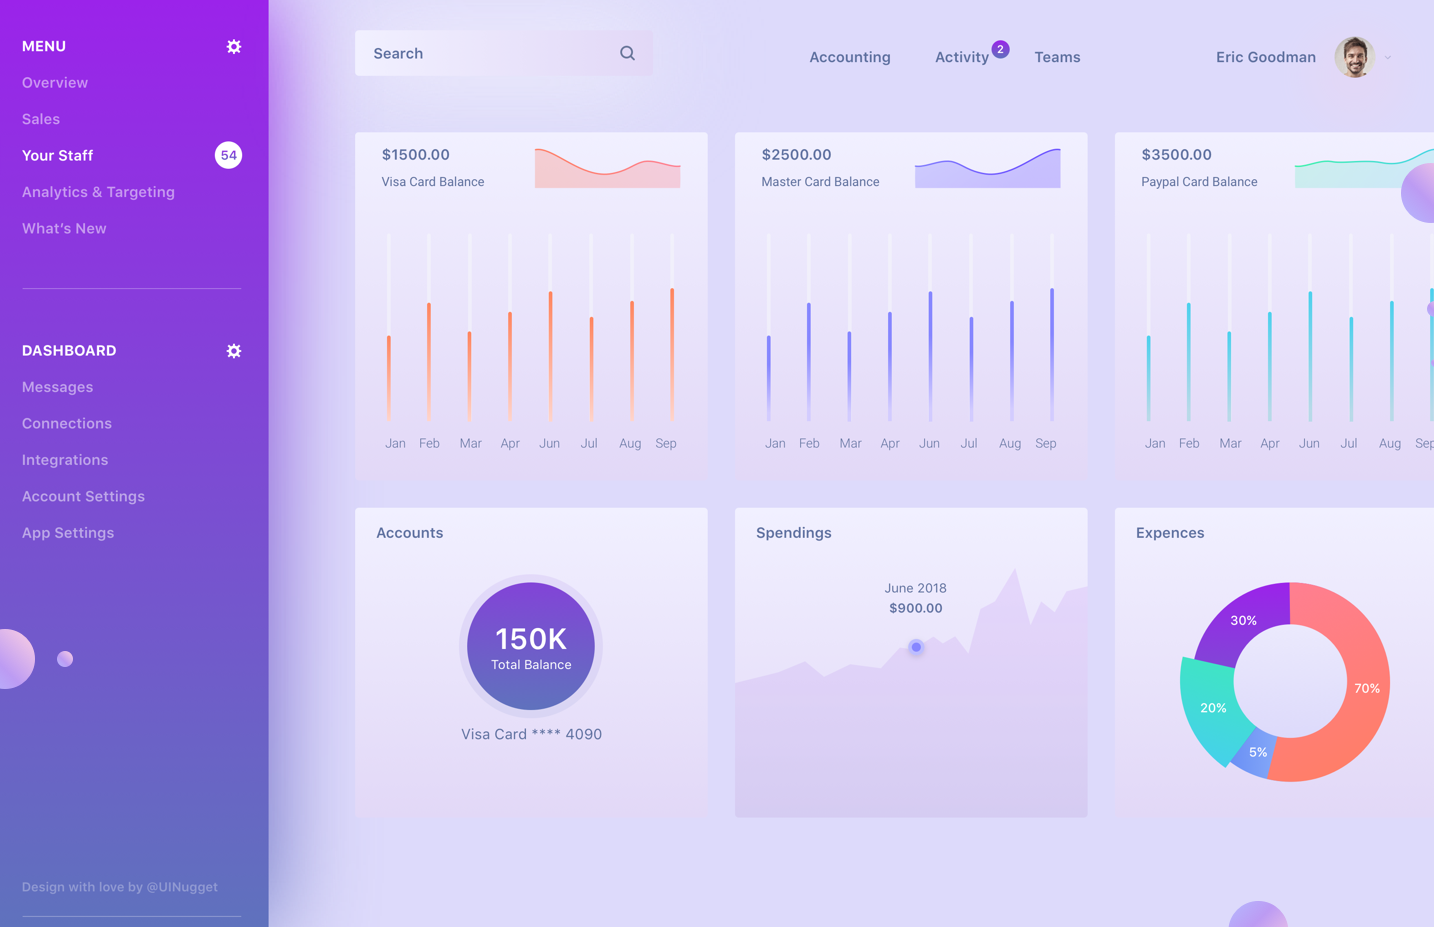block: (2, 1, 267, 926), (353, 30, 1431, 85)
chart: (733, 130, 1086, 474), (354, 131, 707, 476), (1115, 130, 1434, 476), (354, 506, 709, 816), (735, 508, 1088, 816), (1116, 507, 1434, 820), (909, 140, 1067, 196), (1293, 134, 1433, 192), (530, 145, 685, 190)
form: (355, 31, 652, 78)
icon: (610, 34, 647, 74), (218, 31, 248, 62), (213, 139, 242, 169), (219, 335, 248, 366), (1382, 44, 1398, 67)
image: (1336, 38, 1377, 78)
